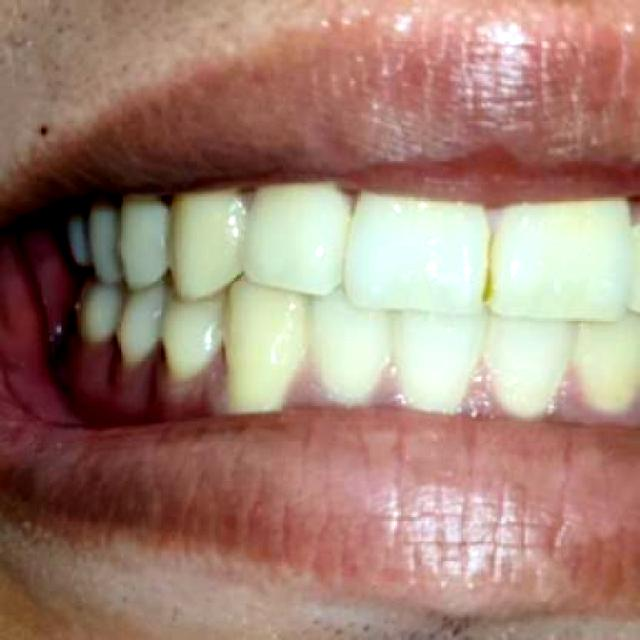Plaque: (279, 353, 336, 408), (543, 364, 590, 423), (460, 357, 506, 413), (367, 356, 405, 406)
